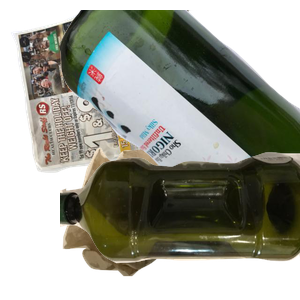glass: (60, 10, 300, 190)
paper: (10, 10, 210, 175)
plastic: (60, 149, 300, 300)
trash: (60, 142, 300, 300)
